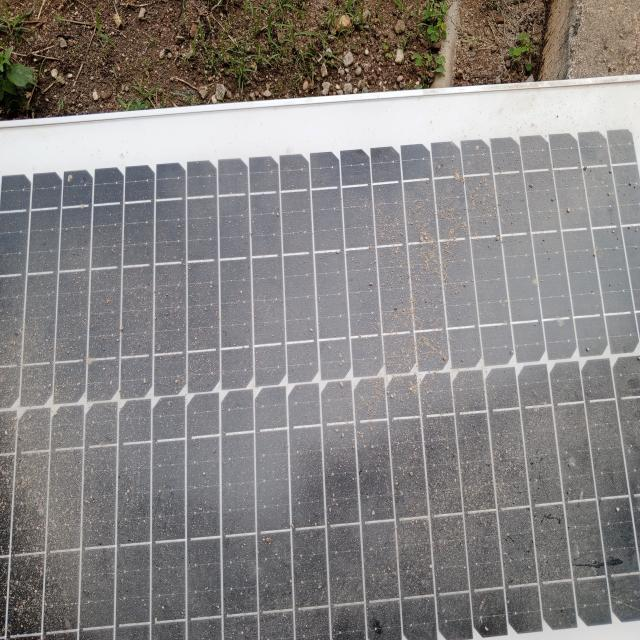Anomaly Solar Panel: (4, 146, 639, 618)
Surface Contaminant: (4, 146, 639, 618)
